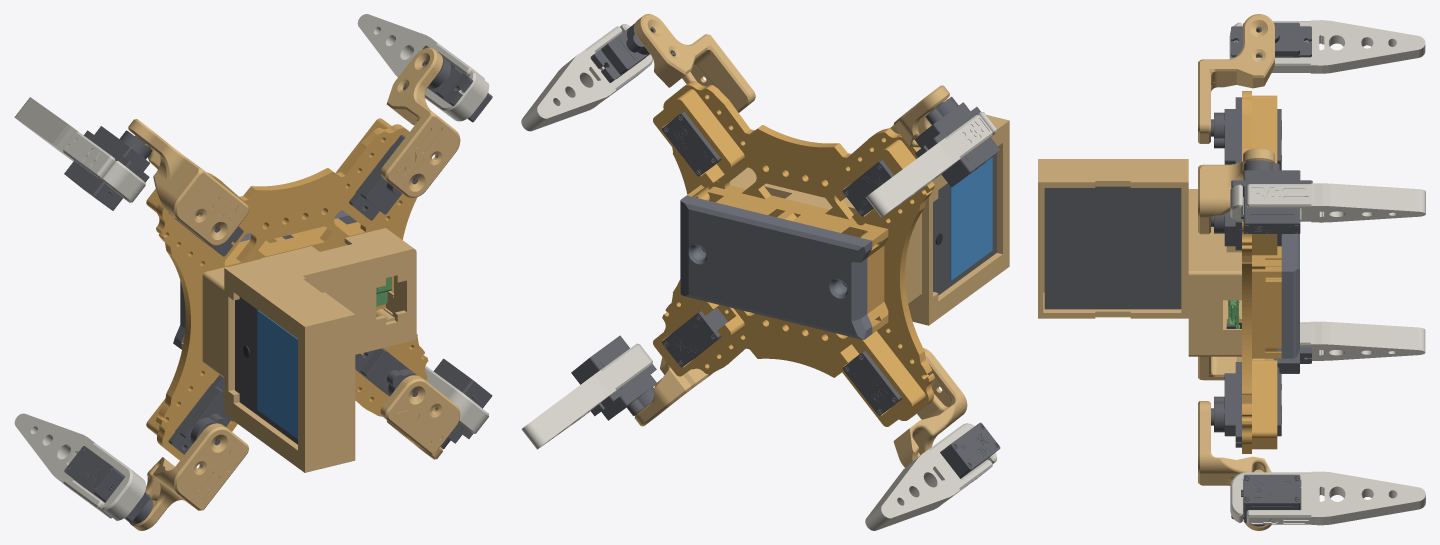
File: sesant_assembly.glb
3 views of the same model, side by side, from view 1: azimuth 30°, elevation 25°; view 2: azimuth 150°, elevation 25°; view 3: azimuth 270°, elevation 25° (orthographic). The views are drawn at different scales.
Parts seen in each view (by area): view 1: stackchan_head, chassis, femur_R2, femur_R1, femur_L1, blade_foot_L3, cores3_screen, blade_foot_R4, femur_L2, blade_foot_R3, knee_servo_FR, cores3 (+8 smaller); view 2: chassis, bottom_cover, stackchan_head, femur_R2, blade_foot_L3, blade_foot_R4, cores3_screen, blade_foot_R3, blade_foot_L4, femur_L1, knee_servo_FR, knee_servo_BL (+9 smaller); view 3: cores3, stackchan_head, chassis, blade_foot_L4, blade_foot_R4, blade_foot_R3, blade_foot_L3, femur_R1, knee_servo_BR, femur_R2, femur_L2, bottom_cover (+7 smaller).
Boxes of the visible parts, x1,y1,x2,y2 form: stackchan_head: (202,228,416,472); chassis: (146,118,428,460); femur_R2: (380,47,460,197); femur_R1: (128,119,248,245); femur_L1: (130,423,248,530); blade_foot_L3: (14,413,145,520); cores3_screen: (257,310,297,438); blade_foot_R4: (357,14,489,121); femur_L2: (380,375,460,459); blade_foot_R3: (14,97,145,202); knee_servo_FR: (64,126,152,210); cores3: (235,297,297,444); chassis: (653,81,934,426); bottom_cover: (680,195,872,339); stackchan_head: (730,114,1009,325); femur_R2: (634,14,755,112); blade_foot_L3: (865,423,996,530); blade_foot_R4: (521,24,652,131); cores3_screen: (950,157,992,280); blade_foot_R3: (866,112,997,217); blade_foot_L4: (521,343,652,449); femur_L1: (893,348,967,467); knee_servo_FR: (914,96,1000,187); knee_servo_BL: (571,335,656,420); cores3: (1044,186,1181,309); stackchan_head: (1038,159,1241,356); chassis: (1242,91,1281,453); blade_foot_L4: (1230,471,1425,525); blade_foot_R4: (1230,183,1425,222); blade_foot_R3: (1229,20,1425,73); blade_foot_L3: (1300,321,1425,360); femur_R1: (1198,14,1274,143); knee_servo_BR: (1231,160,1312,233); femur_R2: (1198,148,1274,234); femur_L2: (1198,401,1271,530); bottom_cover: (1281,234,1299,358).
Size of the model in its own units: 171 by 167 by 153.
